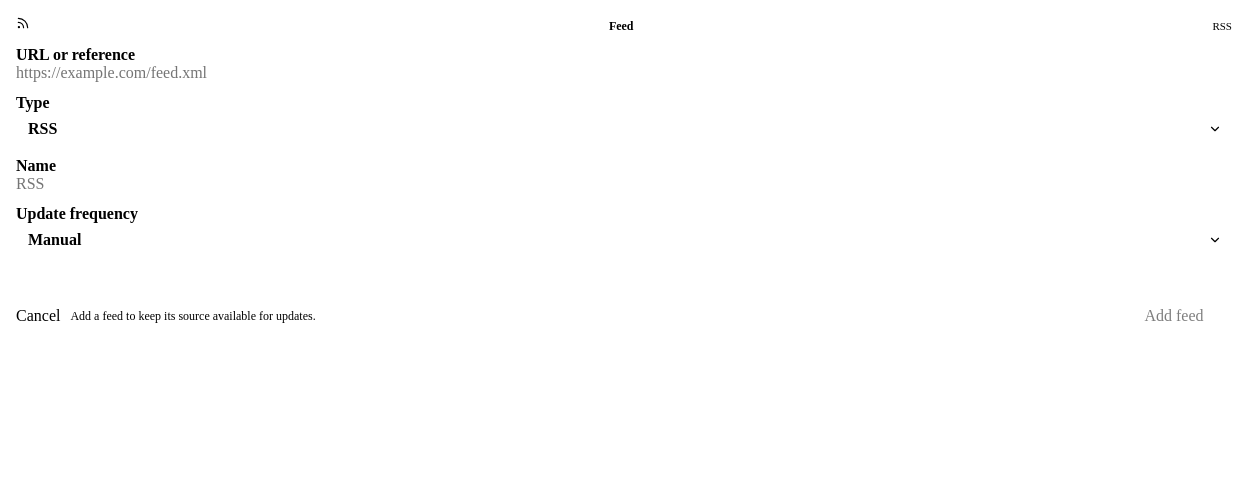
Test case: feed setup independent of the import workspace › clears an earlier create error when correcting source-url
This screenshot has width=1249, height=481.
Type "https://example.test/api/items" into the field with test id "source-url" at (624, 73), box [16,64,1232,82]
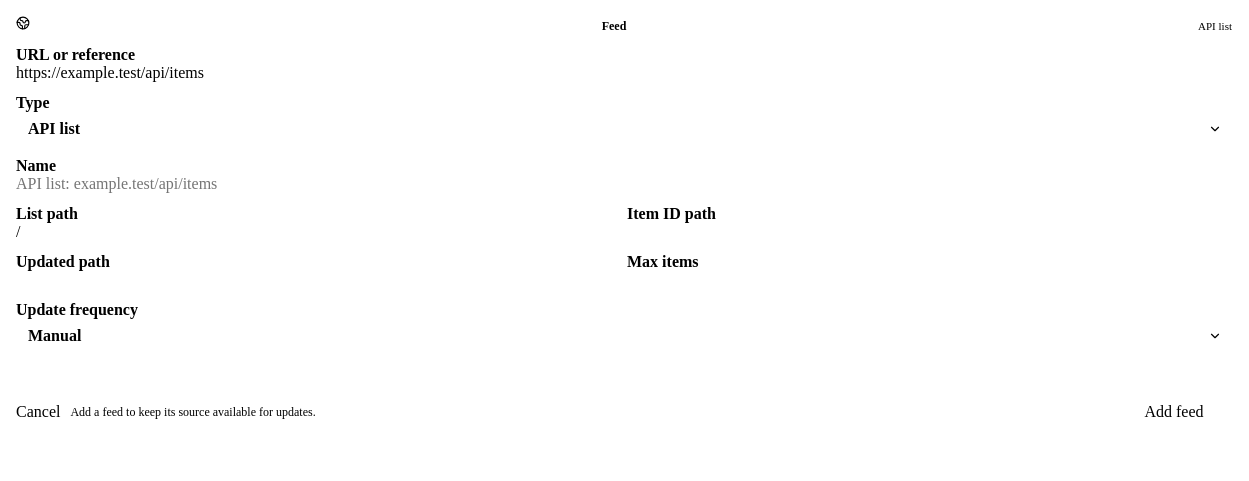
Click the button with test id "source-create" at (1174, 412), box [1116,403,1232,421]
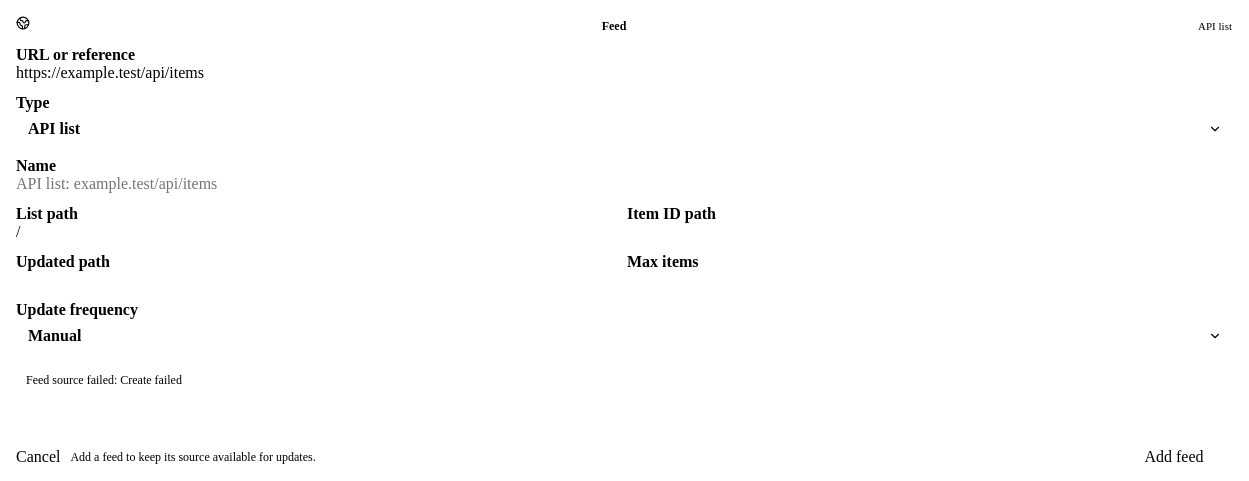
Expected: the message shows "Create failed", [26,373,182,387]
Replace the text in the field with test id "source-url" with "https://example.test/api/next" at (624, 73), box [16,64,1232,82]
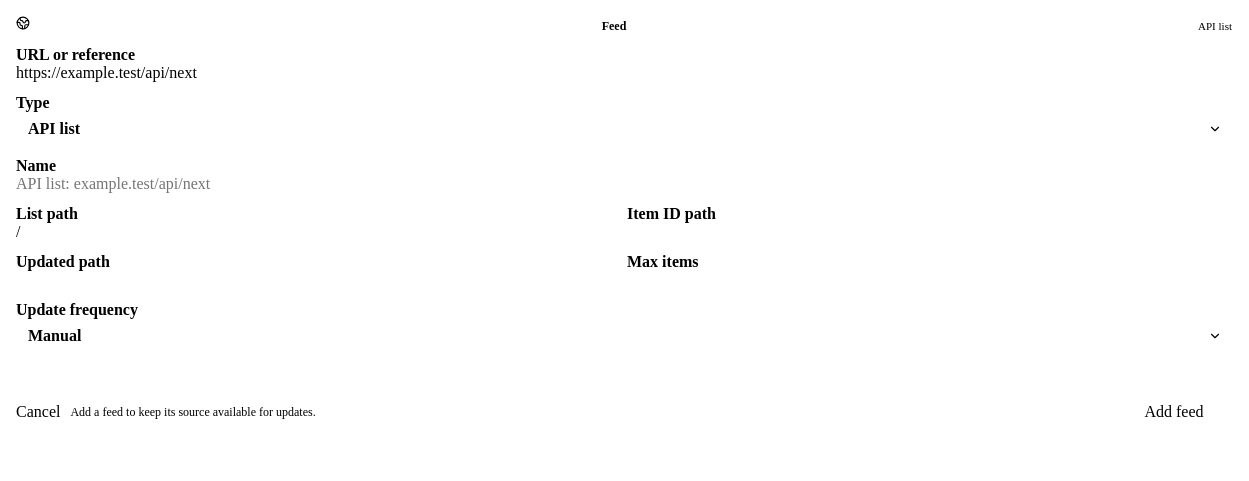
Expected: the message "Feed source failed: Create failed" is gone
